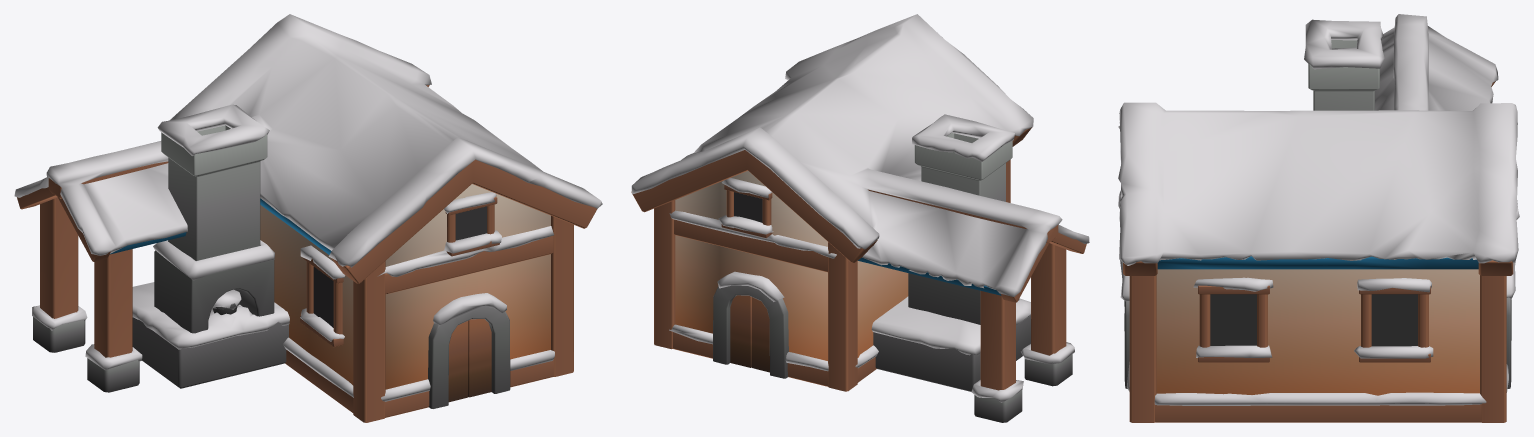
File: WorkSpaceHouseSnowy_2.fbx
3 views of the same model, side by side, from view 1: azimuth 30°, elevation 25°; view 2: azimuth 150°, elevation 25°; view 3: azimuth 270°, elevation 25° (orthographic). The views are drawn at different scales.
Parts seen in each view (by area): view 1: WorkSpaceHouseSnowy_2; view 2: WorkSpaceHouseSnowy_2; view 3: WorkSpaceHouseSnowy_2.
Part boxes in pixels (left/top/right/bottom): WorkSpaceHouseSnowy_2: left=14, top=14, right=602, bottom=422; WorkSpaceHouseSnowy_2: left=631, top=14, right=1089, bottom=422; WorkSpaceHouseSnowy_2: left=1118, top=14, right=1519, bottom=422.
Bounding box in the file's own units: 559 × 324 × 441.
